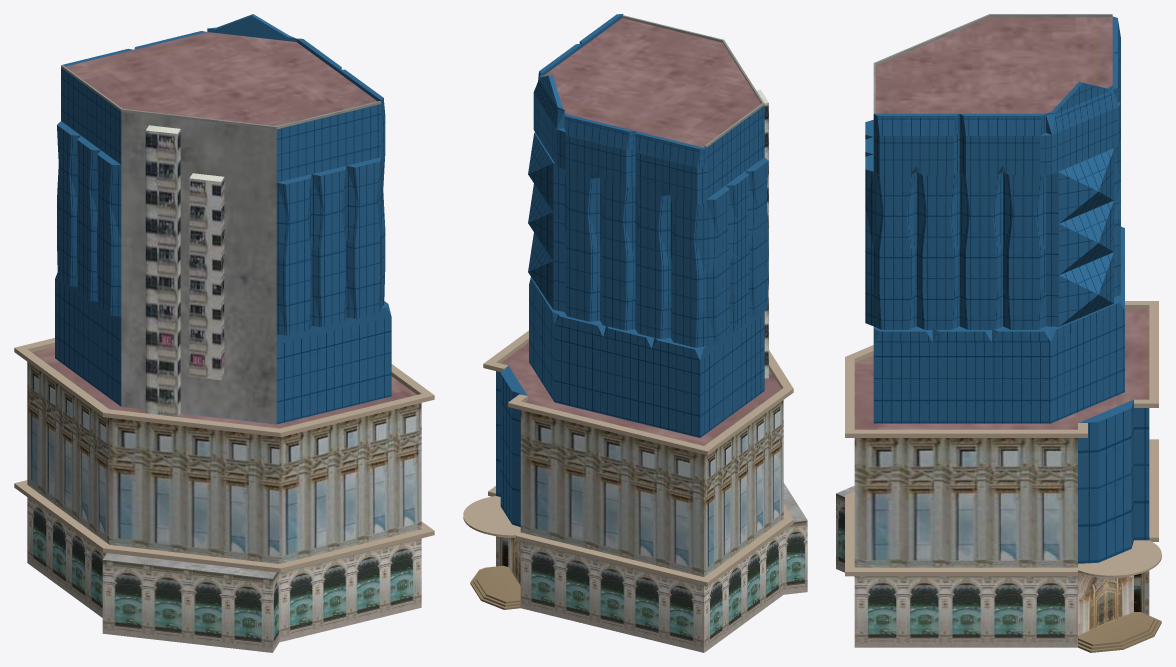
3 views of the same model, side by side, from view 1: azimuth 30°, elevation 25°; view 2: azimuth 150°, elevation 25°; view 3: azimuth 270°, elevation 25° (orthographic). The views are drawn at different scales.
Parts seen in each view (by area): view 1: HN1067___Doji_Tower___Cho_thue_van_phong_tai_Ha_Noi; view 2: HN1067___Doji_Tower___Cho_thue_van_phong_tai_Ha_Noi; view 3: HN1067___Doji_Tower___Cho_thue_van_phong_tai_Ha_Noi.
Boxes of the visible parts, left/top/right/bottom form: HN1067___Doji_Tower___Cho_thue_van_phong_tai_Ha_Noi: left=14, top=14, right=434, bottom=652; HN1067___Doji_Tower___Cho_thue_van_phong_tai_Ha_Noi: left=463, top=14, right=807, bottom=652; HN1067___Doji_Tower___Cho_thue_van_phong_tai_Ha_Noi: left=836, top=14, right=1161, bottom=652.
Size of the model in its own units: 32.1 by 58.28 by 32.1.
1 material, 1 textured.
